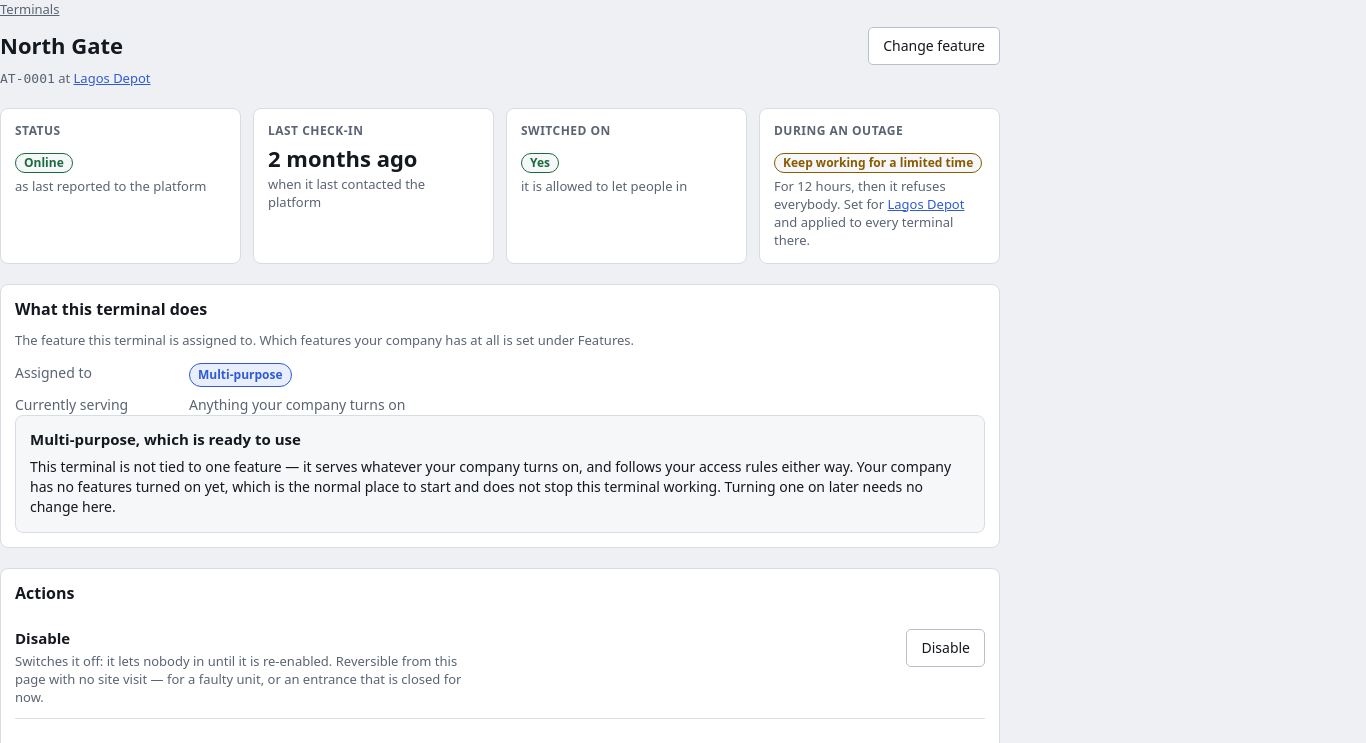
Scenario: disable and re-enable › keeps the dialog open when the server refuses
The image size is (1366, 743).
Expected: the heading "Actions" is shown, left=15, top=582, right=74, bottom=604
Click the button "Disable" at (946, 648), box left=906, top=629, right=985, bottom=667
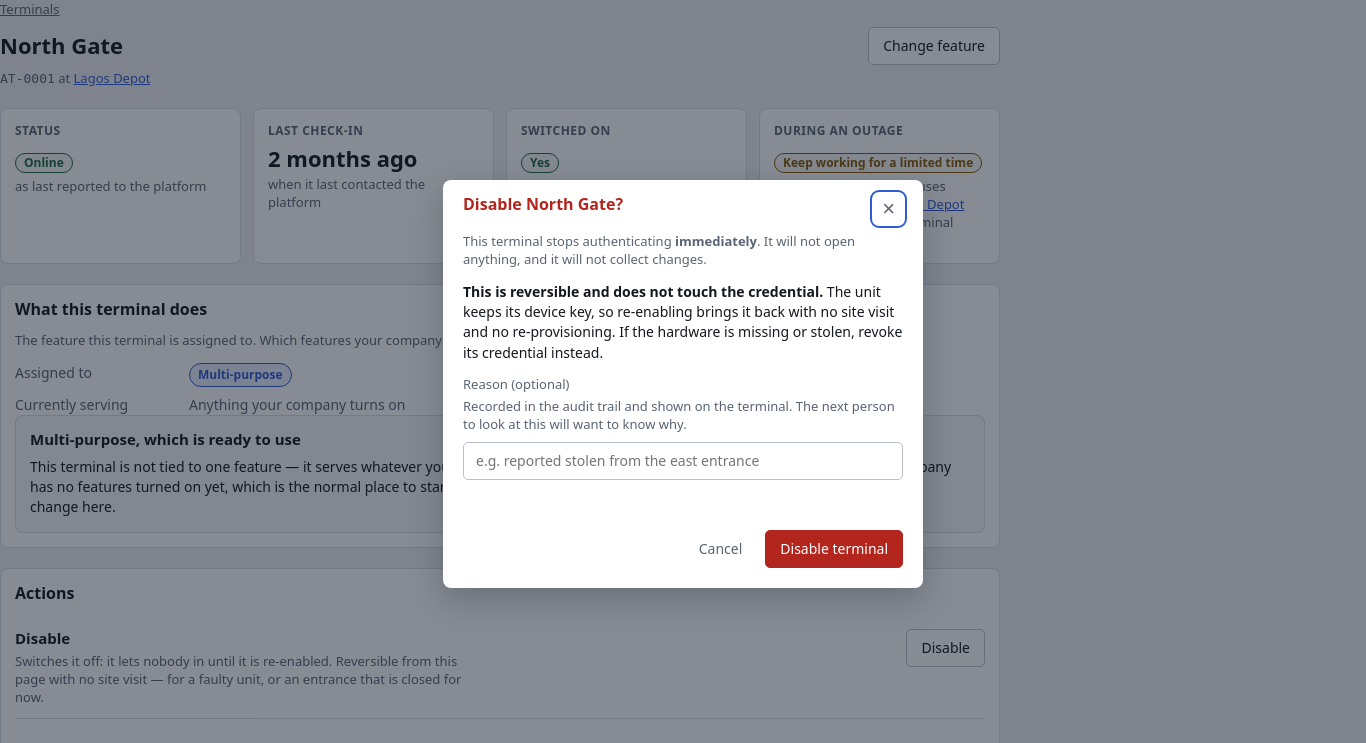
Click the button "Disable terminal" at (834, 549), box left=765, top=530, right=903, bottom=568
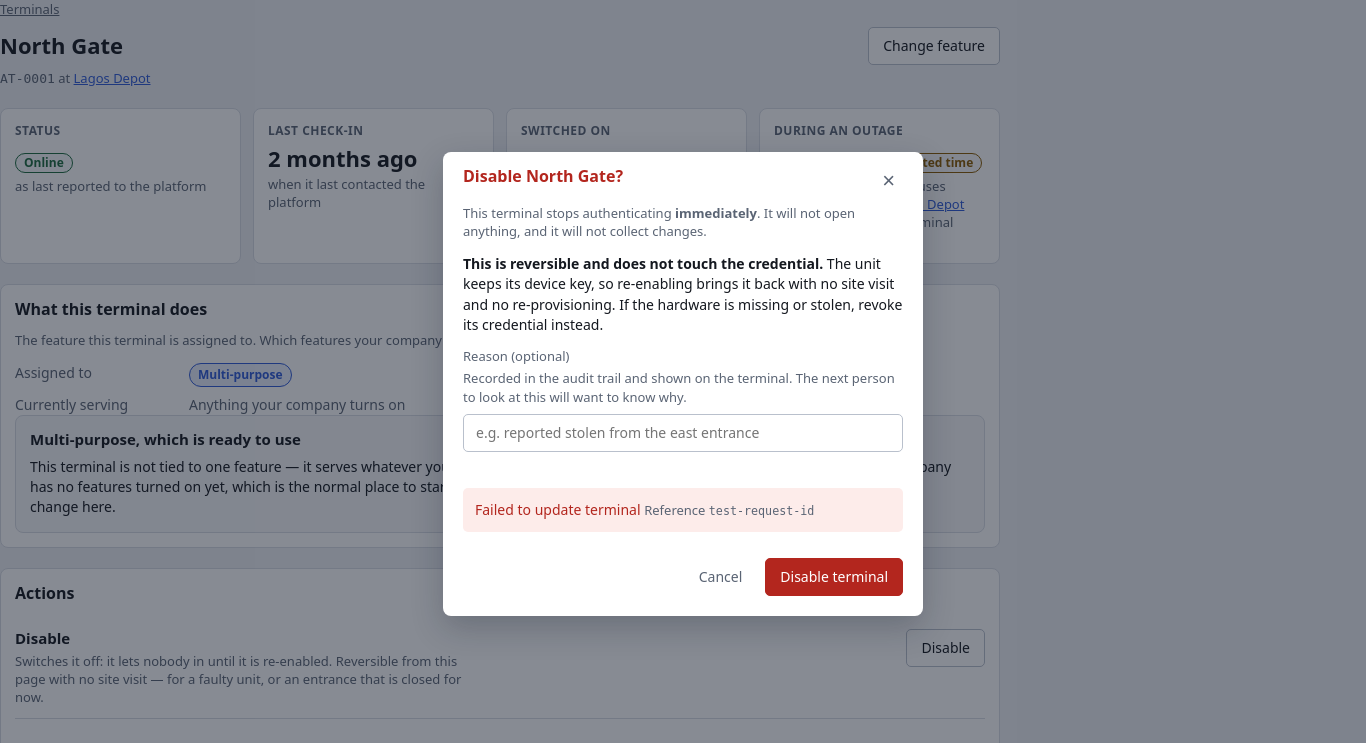
Expected: the dialog is shown, left=443, top=152, right=923, bottom=616
Expected: the message "Failed to update terminal Reference test-request-id" is shown, left=463, top=488, right=903, bottom=532
